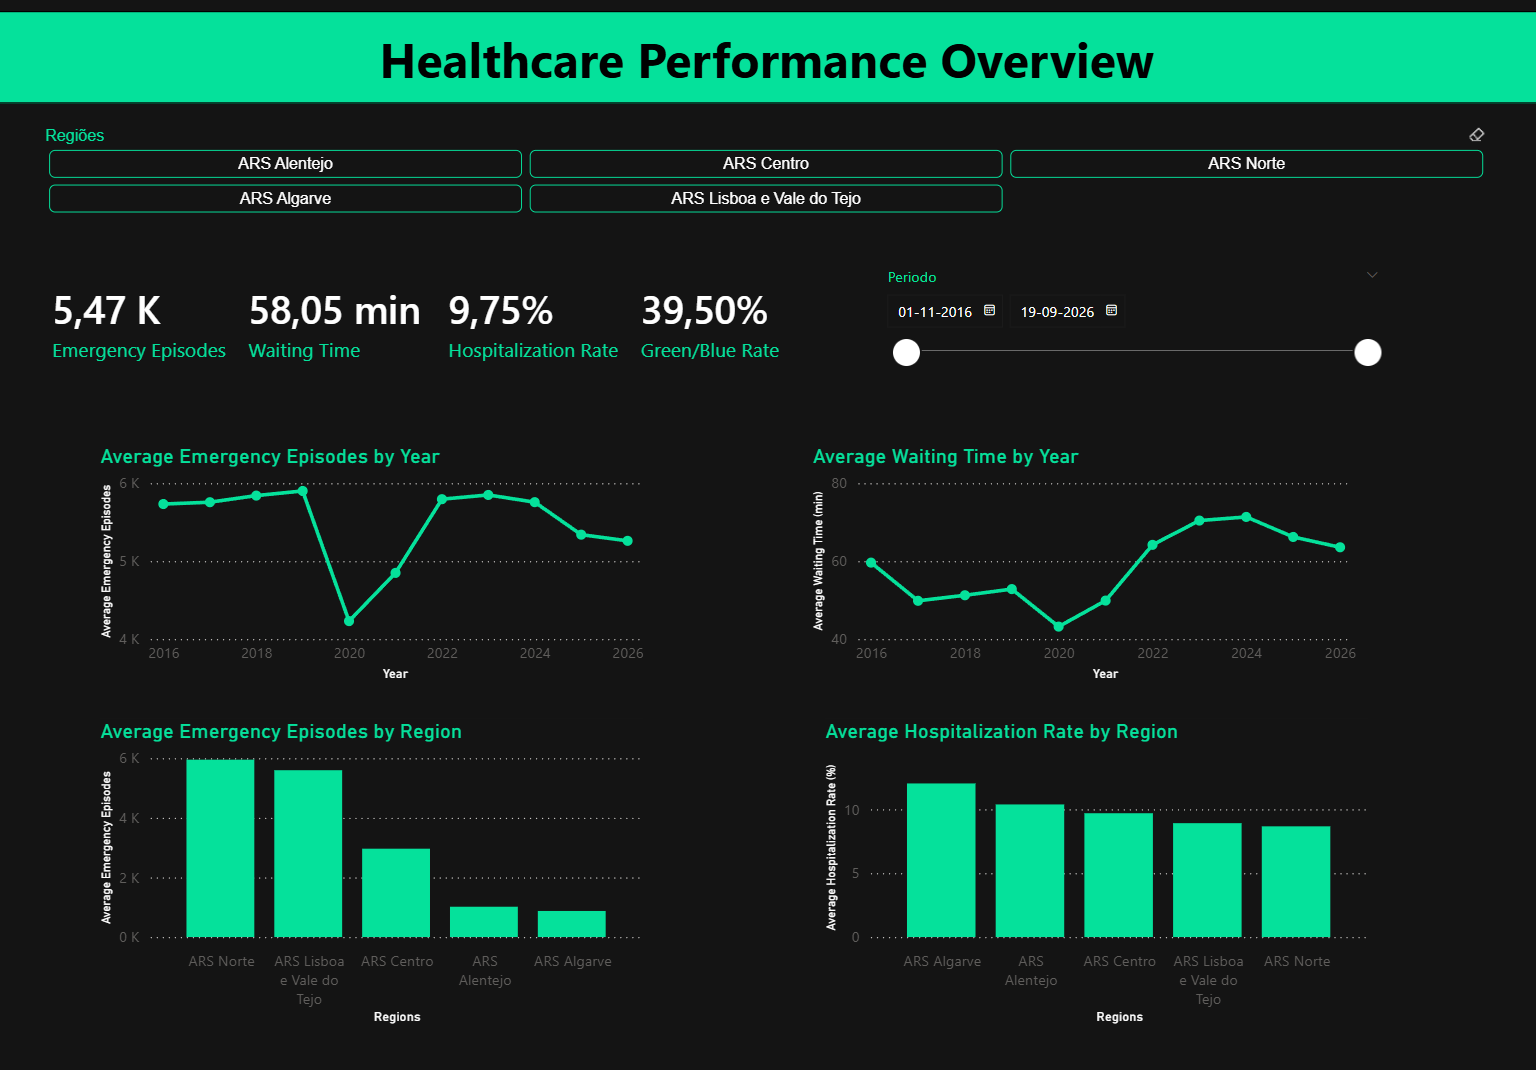

This screenshot's page, from the dashboard's own definition file:
{"tool":"powerbi","page":{"name":"Executive Overview","canvas":[1280,900],"ordinal":0},"visuals":[{"type":"cardVisual","fields":{"Data":["healthcare-cleaned.Avg Emergency Episodes"]},"box":[24.9,212,204,118],"z":0},{"type":"cardVisual","fields":{"Data":["healthcare-cleaned.Avg Green Blue Rate"]},"box":[514.4,212,204,118],"z":1000},{"type":"cardVisual","fields":{"Data":["healthcare-cleaned.Avg Hospitalization Rate"]},"box":[354.3,212,204,118],"z":2000},{"type":"cardVisual","fields":{"Data":["healthcare-cleaned.Avg_waiiting_time"]},"box":[188.4,212,204,118],"z":3000},{"type":"shape","box":[0,12.8,1279.8,76.8],"z":4000},{"type":"shape","box":[4.6,18.3,1270.7,65.9],"z":5000},{"type":"slicer","fields":{"Values":["healthcare-cleaned.periodo"]},"box":[726.8,220.1,433,102.8],"z":6000},{"type":"ChicletSlicer1448559807354","fields":{"Category":["healthcare-cleaned.ars"]},"box":[35.3,103.8,1207.5,100.7],"z":7001},{"type":"lineChart","title":"Average Emergency Episodes by Year","fields":{"Category":["healthcare-cleaned.periodo.Variação.Hierarquia de Datas.Ano"],"Y":["healthcare-cleaned.Avg Emergency Episodes"]},"box":[81,371.7,461,202.5],"z":7002},{"type":"lineChart","title":"Average Waiting Time by Year","fields":{"Category":["healthcare-cleaned.periodo.Variação.Hierarquia de Datas.Ano"],"Y":["healthcare-cleaned.Avg_waiting_time"]},"box":[672.8,371.7,461,202.5],"z":7003},{"type":"clusteredColumnChart","title":"Average Emergency Episodes by Region","fields":{"Category":["healthcare-cleaned.ars"],"Y":["healthcare-cleaned.Avg Emergency Episodes"]},"box":[81,600.1,461,258.5],"z":7004},{"type":"clusteredColumnChart","title":"Average Hospitalization Rate by Region","fields":{"Category":["healthcare-cleaned.ars"],"Y":["healthcare-cleaned.Avg Hospitalization Rate"]},"box":[683.2,600.1,461,258.5],"z":7005}]}

Visuals, with their boxes in screenshot pixels (x1, y1, x2, y2), scaled from the page's 1280x900 canvas onto the 1536x1070 screenshot:
cardVisual - healthcare-cleaned.Avg Emergency Episodes: rect(30, 252, 275, 392)
cardVisual - healthcare-cleaned.Avg Green Blue Rate: rect(617, 252, 862, 392)
cardVisual - healthcare-cleaned.Avg Hospitalization Rate: rect(425, 252, 670, 392)
cardVisual - healthcare-cleaned.Avg_waiiting_time: rect(226, 252, 471, 392)
shape: rect(0, 15, 1535, 107)
shape: rect(6, 22, 1530, 100)
slicer - healthcare-cleaned.periodo: rect(872, 262, 1392, 384)
ChicletSlicer1448559807354 - healthcare-cleaned.ars: rect(42, 123, 1491, 243)
"Average Emergency Episodes by Year" lineChart: rect(97, 442, 650, 683)
"Average Waiting Time by Year" lineChart: rect(807, 442, 1361, 683)
"Average Emergency Episodes by Region" clusteredColumnChart: rect(97, 713, 650, 1021)
"Average Hospitalization Rate by Region" clusteredColumnChart: rect(820, 713, 1373, 1021)
